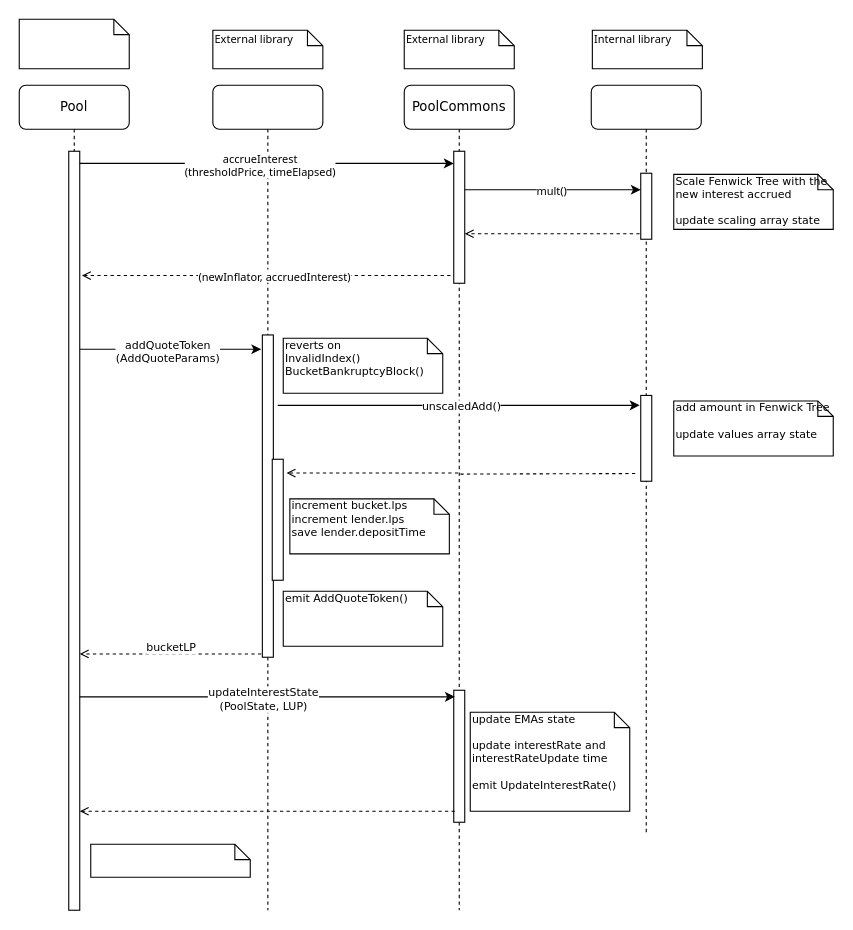
Some shapes in this 853 by 930 pixel diagram are drawn without their labels. Each missing label, with the centre of its shape:
Deposits: point (645, 458)
LenderActions: point (267, 497)
Similar for both ERC20 and ERC721 pools: point (73, 43)
update inflator update inflatorUpdate time: point (170, 860)
